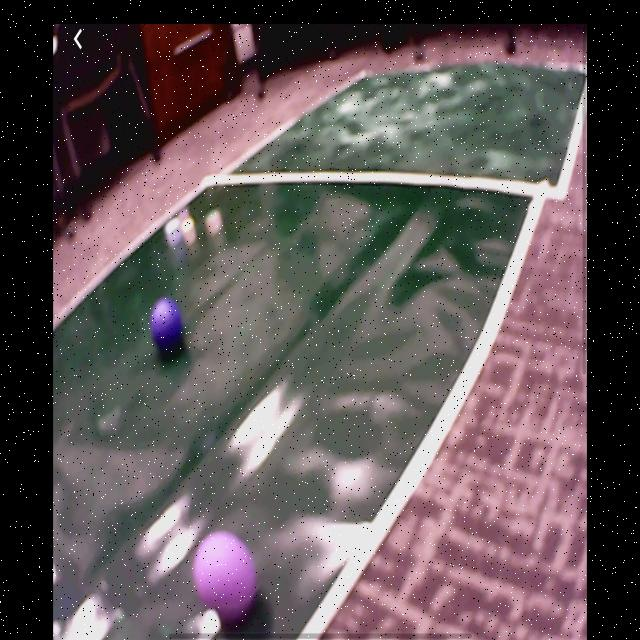ball: (193, 531, 259, 624), (151, 298, 183, 350)
